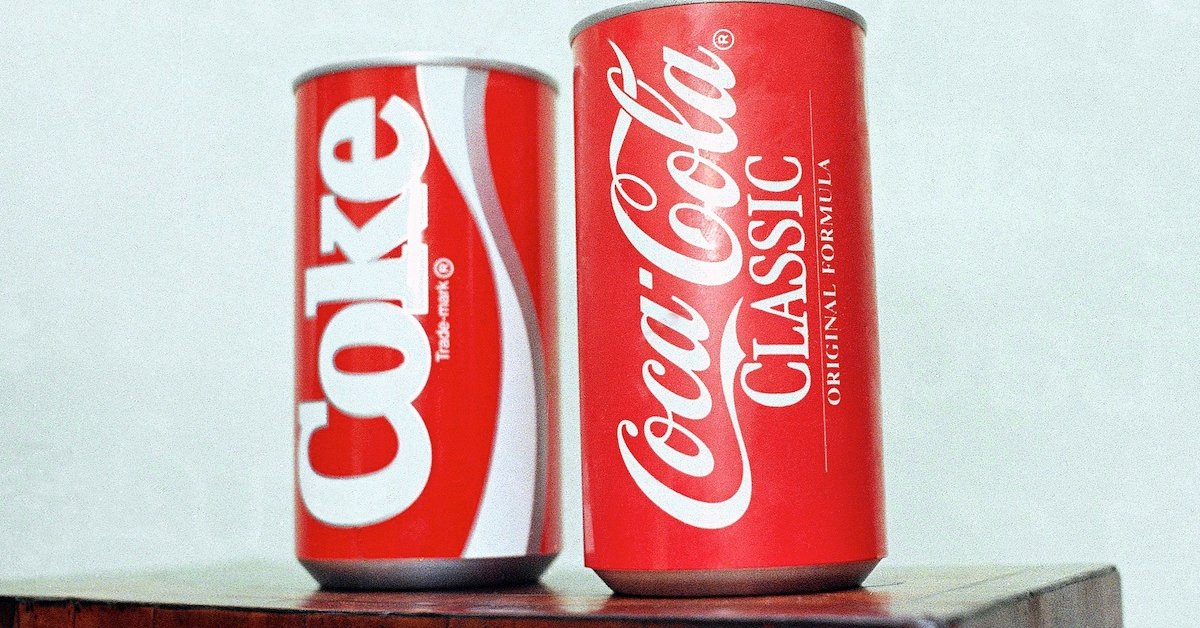coke: (566, 3, 906, 615)
